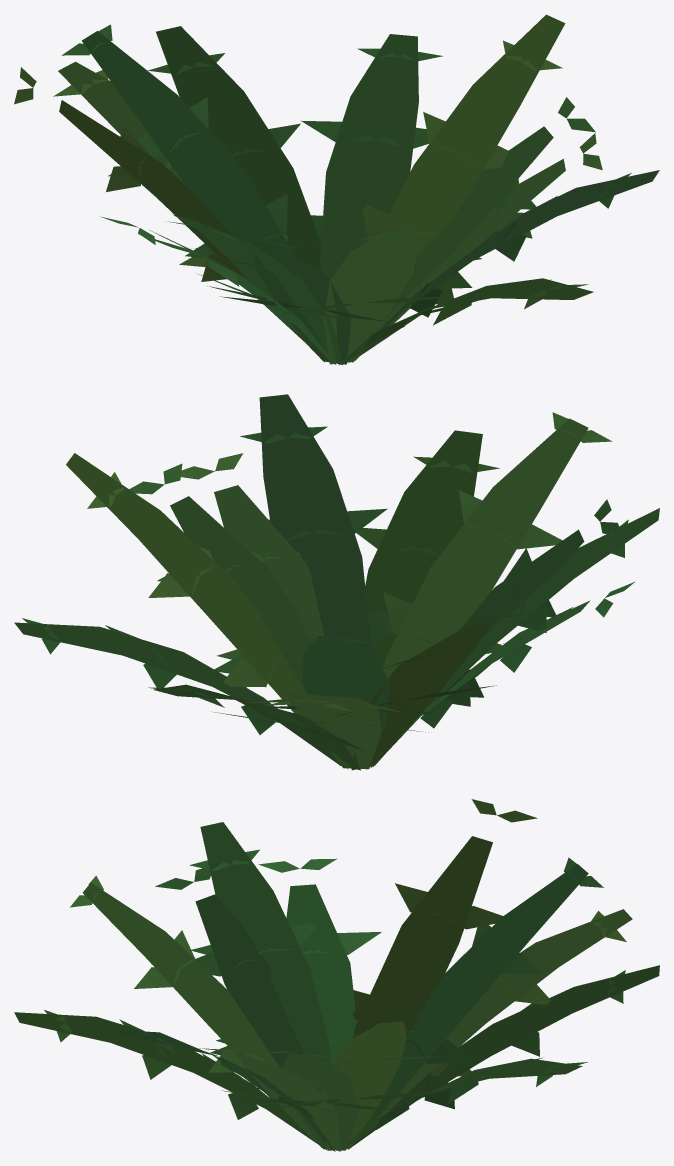
Rendered from fern-sword-b.lod2.glb.
The picture shows the model from 3 angles, top to bottom: view 1: azimuth 30°, elevation 25°; view 2: azimuth 150°, elevation 25°; view 3: azimuth 270°, elevation 25°; orthographic projection. The views are drawn at different scales.
Parts seen in each view (by area): view 1: fern-sword-b.lod2; view 2: fern-sword-b.lod2; view 3: fern-sword-b.lod2.
Boxes of the visible parts, bbox=[...] form: fern-sword-b.lod2: bbox=[14, 14, 659, 364]; fern-sword-b.lod2: bbox=[14, 394, 659, 770]; fern-sword-b.lod2: bbox=[14, 799, 659, 1151].
Size of the model in its own units: 1.35 by 0.6741 by 1.66.
